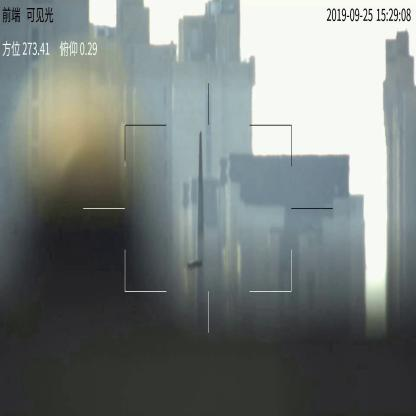uav: (188, 259, 202, 270)
